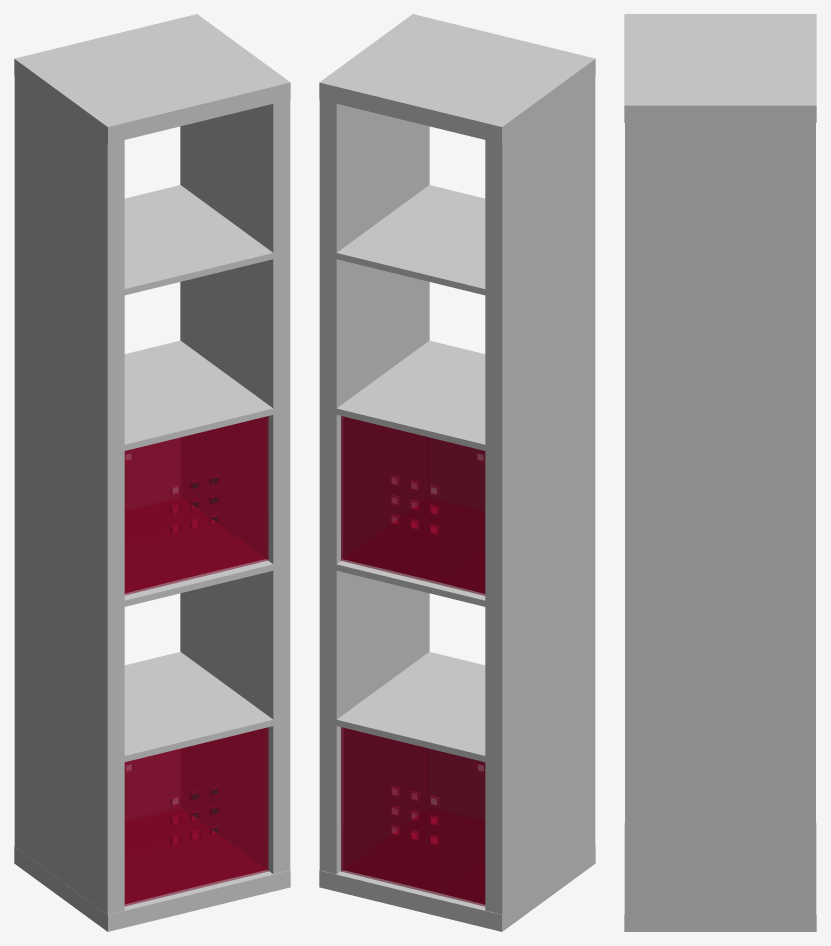
Rendered from b0-verticalshelves.glb.
3 views of the same model, side by side, from view 1: azimuth 30°, elevation 25°; view 2: azimuth 150°, elevation 25°; view 3: azimuth 270°, elevation 25° (orthographic). The views are drawn at different scales.
Visible parts, largest first — view 1: Cube.002, Cube.003_Cube.008, Cube.001, Cube.016_Cube.003, Cube.015_Cube.022, Cube.006, Cube.004, Cube.007, Cube, Cube.005; view 2: Cube.002, Cube.003_Cube.008, Cube.001, Cube.016_Cube.003, Cube.015_Cube.022, Cube.006, Cube.004, Cube.007, Cube, Cube.005; view 3: Cube.003_Cube.008, Cube.001, Cube.
Part boxes in pixels (<box>): Cube.002: <box>14,76,124,914</box>; Cube.003_Cube.008: <box>180,99,290,874</box>; Cube.001: <box>14,14,290,143</box>; Cube.016_Cube.003: <box>124,416,268,595</box>; Cube.015_Cube.022: <box>124,727,268,906</box>; Cube.006: <box>124,340,273,450</box>; Cube.004: <box>124,652,273,761</box>; Cube.007: <box>124,185,273,295</box>; Cube: <box>14,846,290,931</box>; Cube.005: <box>124,559,273,606</box>; Cube.002: <box>485,76,595,914</box>; Cube.003_Cube.008: <box>319,99,429,874</box>; Cube.001: <box>319,14,595,143</box>; Cube.016_Cube.003: <box>341,416,485,595</box>; Cube.015_Cube.022: <box>341,727,485,906</box>; Cube.006: <box>336,340,485,450</box>; Cube.004: <box>336,652,485,761</box>; Cube.007: <box>336,185,485,295</box>; Cube: <box>319,846,595,931</box>; Cube.005: <box>336,559,485,606</box>; Cube.003_Cube.008: <box>625,123,815,914</box>; Cube.001: <box>624,14,816,122</box>; Cube: <box>624,823,816,931</box>.
Size of the model in its own units: 0.44 by 1.85 by 0.39.
